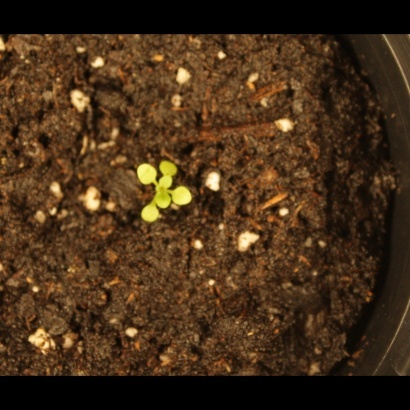leaf: (171, 186, 200, 209), (139, 204, 162, 228), (136, 163, 159, 186), (157, 157, 180, 180), (152, 190, 175, 213), (154, 172, 177, 195)
